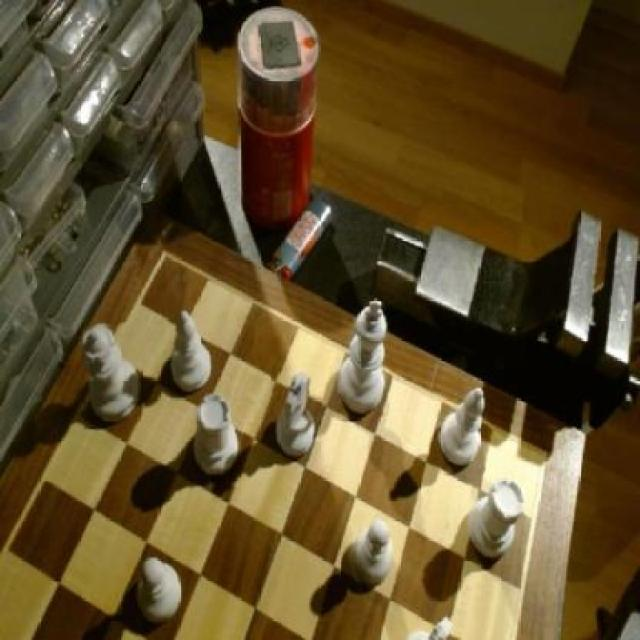black-rook: (434, 384, 489, 476), (169, 306, 218, 396)
white-bishop: (337, 292, 391, 418)
white-king: (272, 369, 324, 462), (408, 616, 455, 640)
white-knight: (137, 552, 185, 627), (352, 516, 395, 586)
white-pawn: (82, 323, 146, 429)
white-queen: (470, 477, 526, 568), (197, 394, 245, 486)
